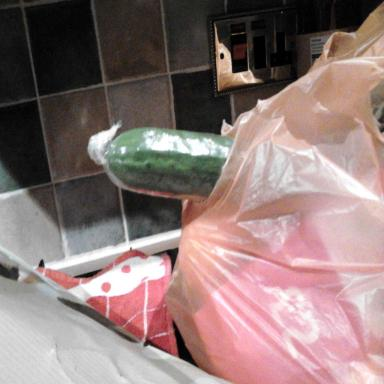plasticbag: (161, 32, 384, 383)
